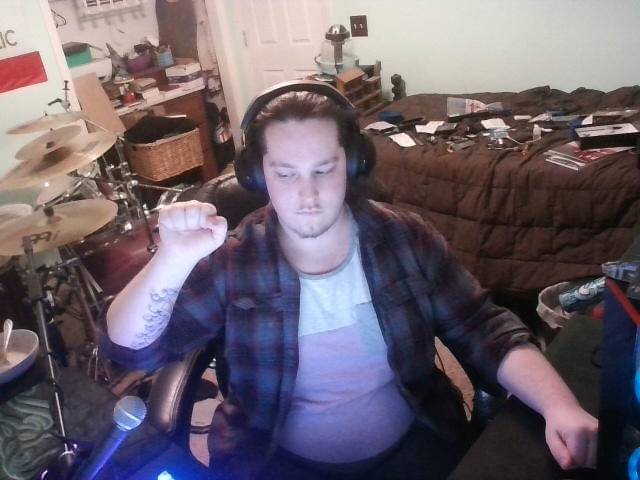yes: (143, 192, 247, 278)
